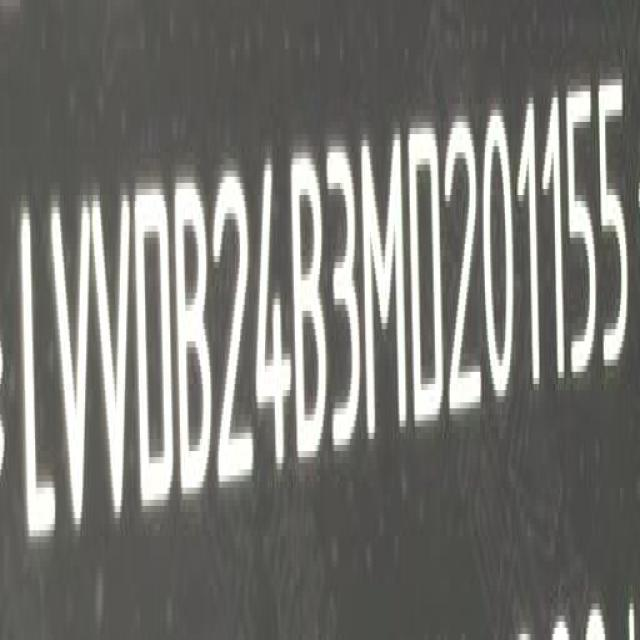0: (482, 106, 517, 415)
1: (521, 92, 547, 404), (544, 81, 567, 397)
2: (214, 168, 254, 504), (447, 109, 484, 429)
3: (331, 138, 364, 463)
4: (254, 160, 293, 492)
5: (600, 62, 633, 380), (566, 74, 598, 389)
B: (178, 174, 216, 514), (295, 140, 331, 472)
D: (134, 177, 174, 523), (409, 116, 447, 440)
L: (17, 195, 56, 562)
M: (365, 120, 411, 454)
V: (48, 191, 94, 547), (93, 183, 137, 538)
